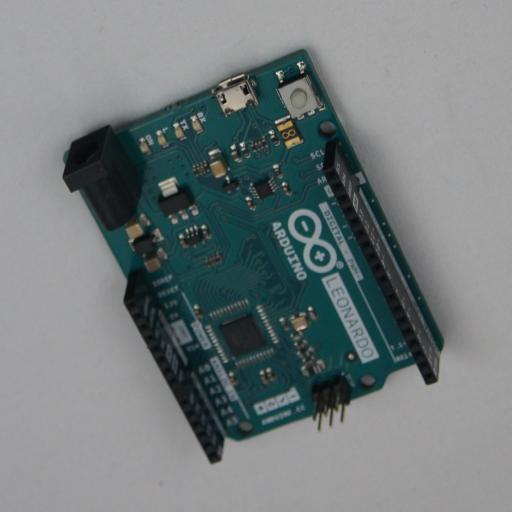Arduino Leonardo: (62, 48, 444, 464)
